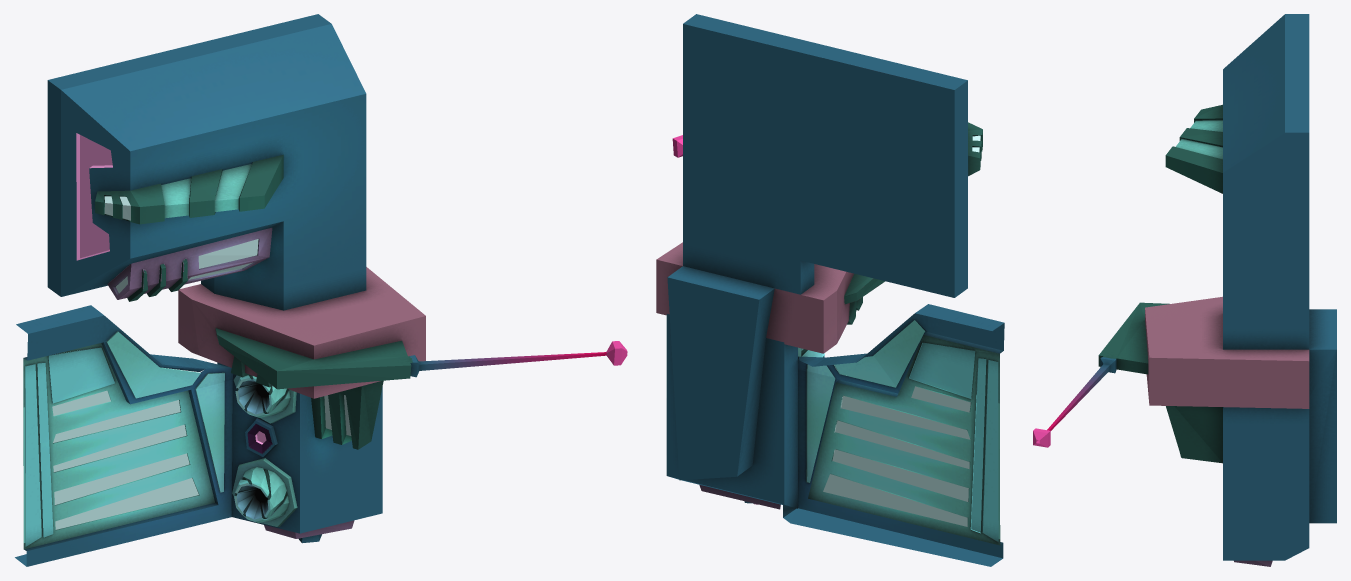
Rendered from ThugShip_Tile_Bay_06_M.fbx.
The picture shows the model from 3 angles, left to right: view 1: azimuth 30°, elevation 25°; view 2: azimuth 150°, elevation 25°; view 3: azimuth 270°, elevation 25°; orthographic projection. The views are drawn at different scales.
Parts seen in each view (by area): view 1: ThugShip_Tile_Bay_06, ThugShip_Tile_Bay_06_Glow_2, ThugShip_Tile_Bay_06_Glow_3, ThugShip_Tile_Bay_06_turbine_01, ThugShip_Tile_Bay_06_turbine_02; view 2: ThugShip_Tile_Bay_06, ThugShip_Tile_Bay_06_Glow_2; view 3: ThugShip_Tile_Bay_06.
Part boxes in pixels (box(x1,y1,x2,y2)): ThugShip_Tile_Bay_06: box(15, 14, 606, 566); ThugShip_Tile_Bay_06_Glow_2: box(52, 196, 351, 529); ThugShip_Tile_Bay_06_Glow_3: box(76, 133, 266, 444); ThugShip_Tile_Bay_06_turbine_01: box(234, 467, 289, 522); ThugShip_Tile_Bay_06_turbine_02: box(235, 374, 290, 417); ThugShip_Tile_Bay_06: box(656, 14, 1004, 566); ThugShip_Tile_Bay_06_Glow_2: box(823, 135, 980, 526); ThugShip_Tile_Bay_06: box(1047, 14, 1336, 566).
Bounding box in the file's own units: 100 × 102 × 63.4.
6 materials, 3 textured.
